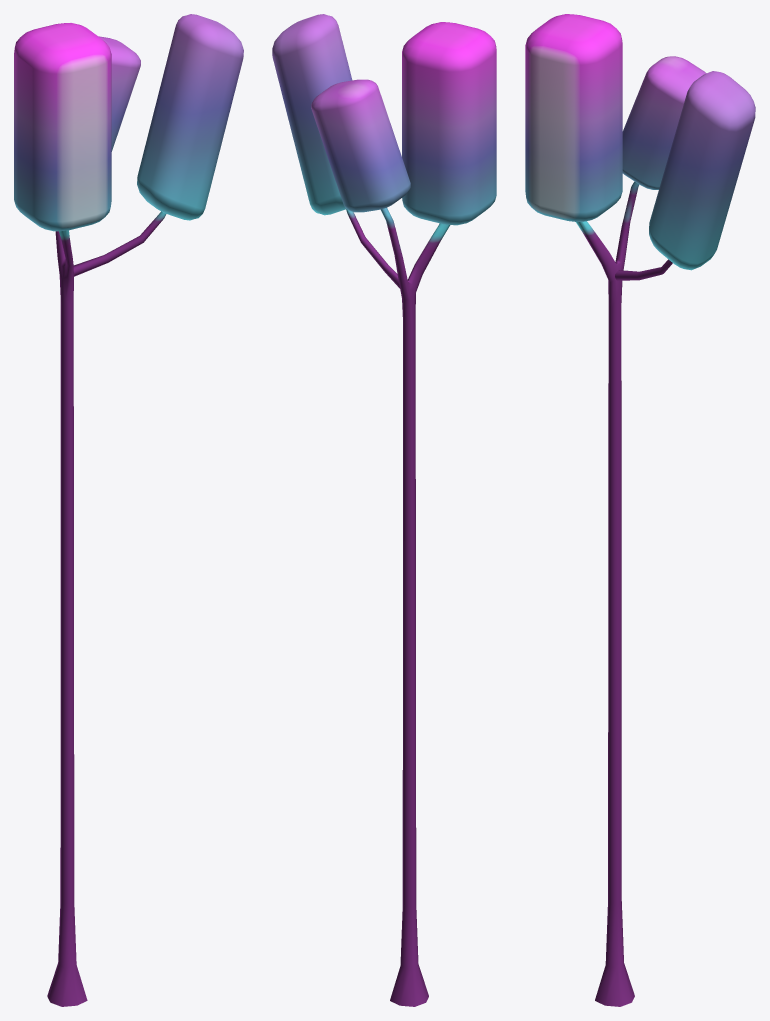
Rendered from Tree08.fbx.
3 views of the same model, side by side, from view 1: azimuth 30°, elevation 25°; view 2: azimuth 150°, elevation 25°; view 3: azimuth 330°, elevation 25° (orthographic). The views are drawn at different scales.
Parts seen in each view (by area): view 1: Tree08; view 2: Tree08; view 3: Tree08.
Boxes of the visible parts, x1,y1,x2,y2 form: Tree08: (14, 14, 243, 1006); Tree08: (272, 14, 496, 1006); Tree08: (525, 14, 755, 1006).
Bounding box in the file's own units: 1075 × 4775 × 615.
